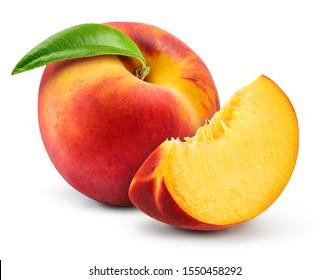Peach Ripe: (39, 23, 219, 205)
